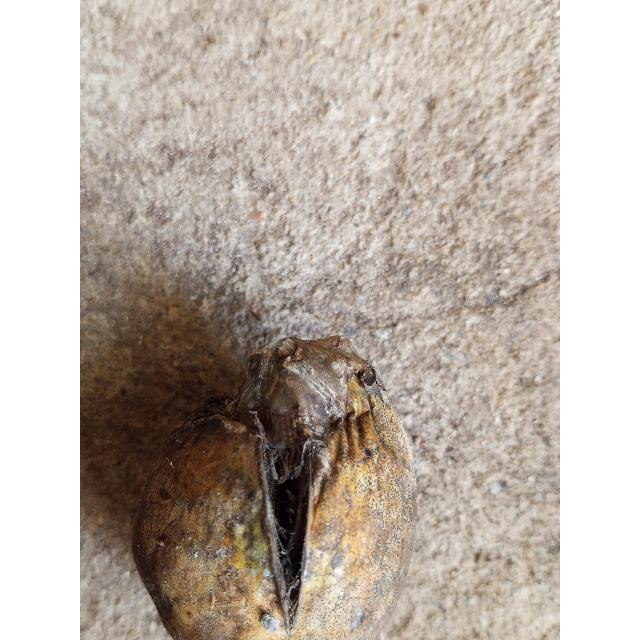damaged: (133, 336, 416, 640)
